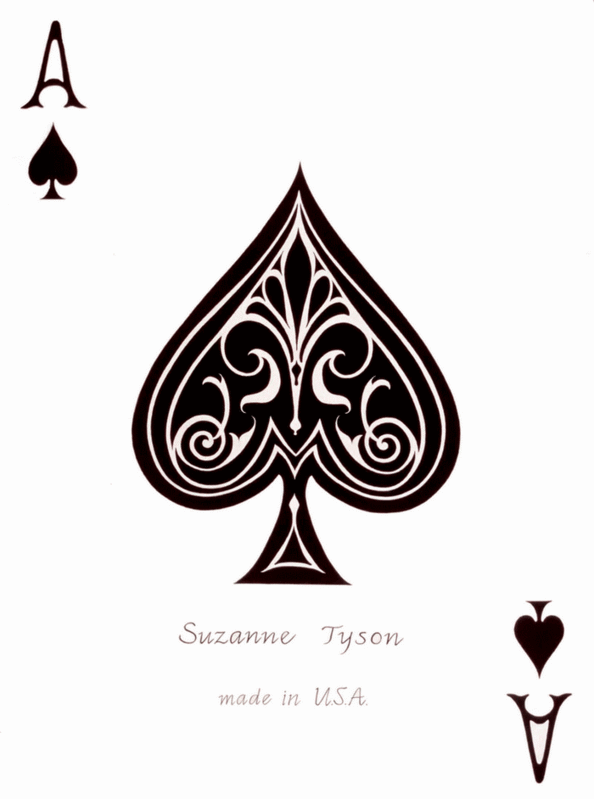ace of spades: (9, 8, 583, 793)
